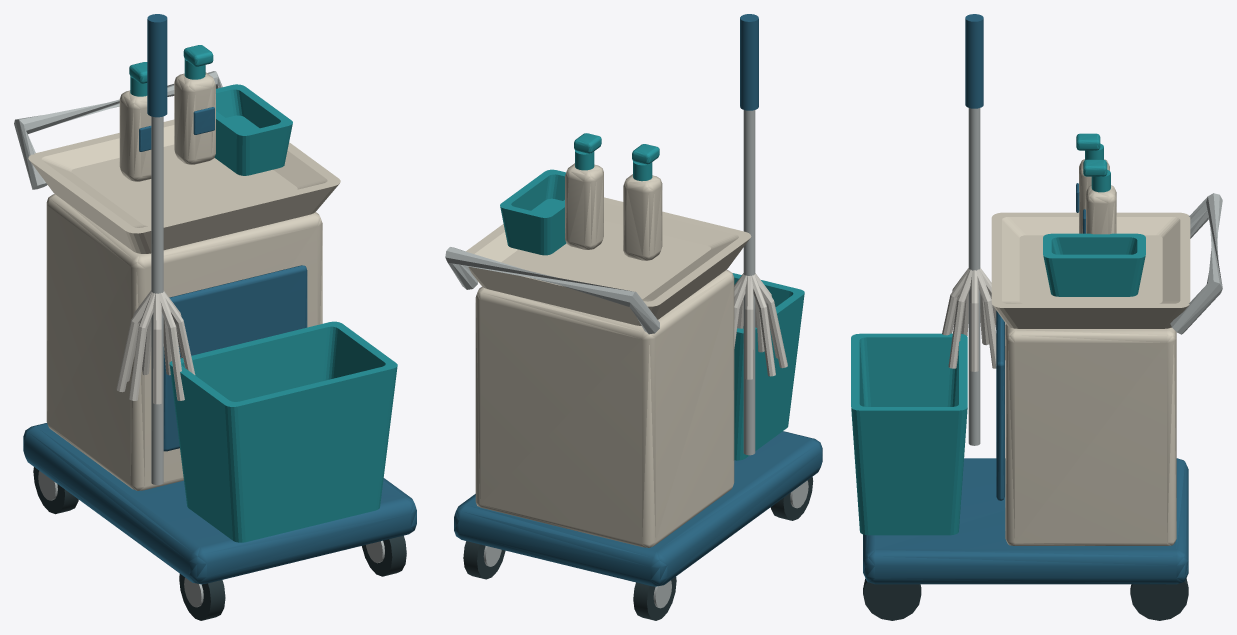
Rendered from 10_standard_cleaning_cart.glb.
3 views of the same model, side by side, from view 1: azimuth 30°, elevation 25°; view 2: azimuth 150°, elevation 25°; view 3: azimuth 270°, elevation 25° (orthographic). The views are drawn at different scales.
Parts seen in each view (by area): view 1: 10_standard_cleaning_cart__Static; view 2: 10_standard_cleaning_cart__Static; view 3: 10_standard_cleaning_cart__Static.
Boxes of the visible parts, x1,y1,x2,y2 form: 10_standard_cleaning_cart__Static: (14,14,416,620); 10_standard_cleaning_cart__Static: (445,14,822,620); 10_standard_cleaning_cart__Static: (851,14,1222,620).
Bounding box in the file's own units: 0.7358 × 1.67 × 1.08.
